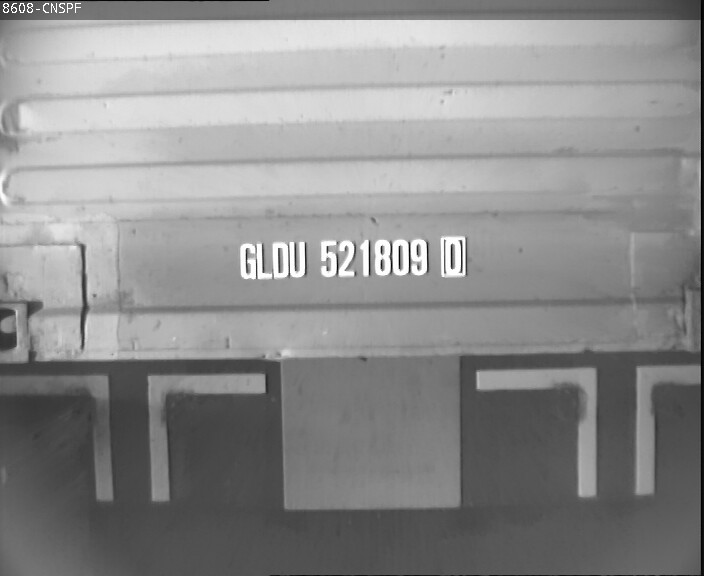groundmarker_1: (6, 372, 264, 504), (473, 367, 703, 494)
